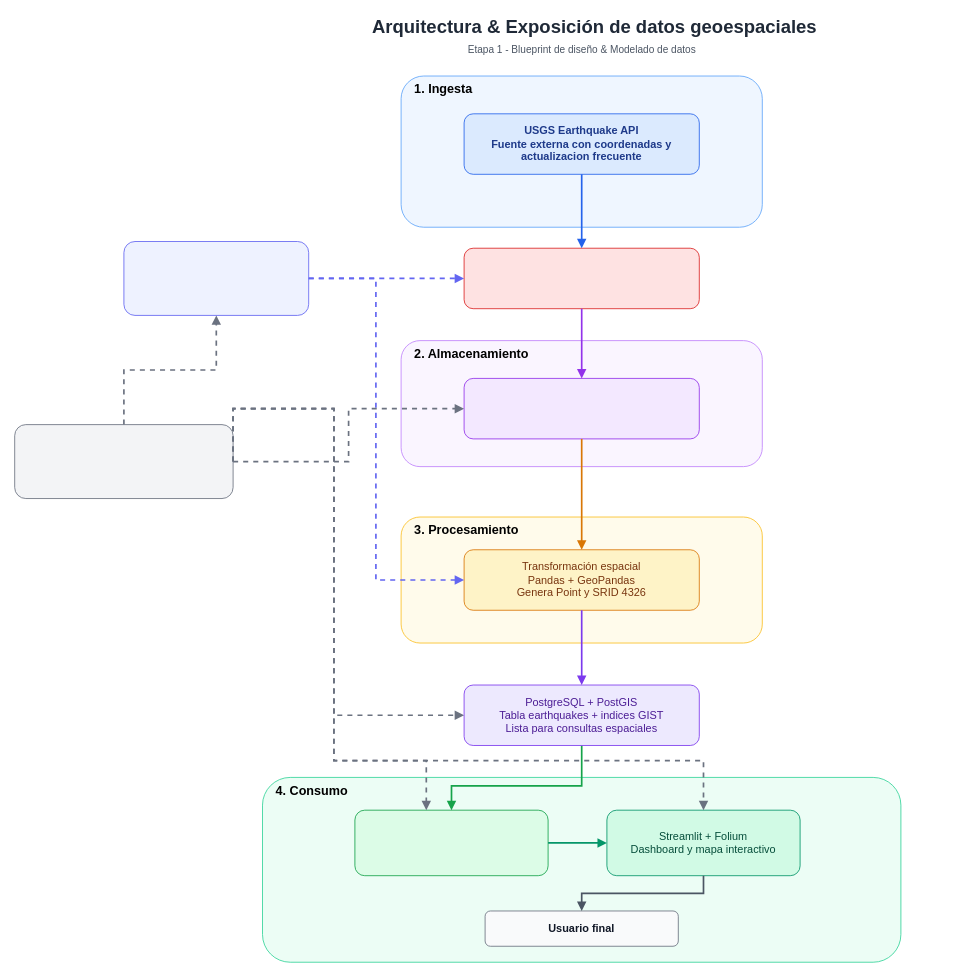
Image size: 962x977. Some labels were removed from this diagram. Here are the shapes that lost their labels. From the top down, the centre of each, then its label:
[216,278]: Mage AI Orquesta el pipeline Ejecución programada
[581,278]: Extracción y carga Consulta la API y carga datos en raw_earthquakes
[581,408]: PostgreSQL + PostGIS Tabla raw_earthquakes Conserva el dato original
[123,461]: Docker Compose Integra PostGIS, Mage, FastAPI y Streamlit
[451,842]: FastAPI API REST para filtros, detalle, radio y estadísticas
